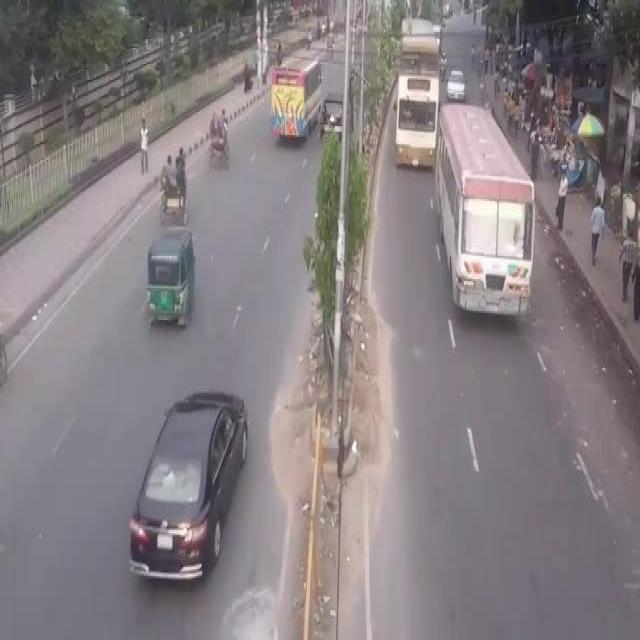13: (156, 145, 190, 232), (207, 106, 230, 172)
15: (318, 87, 342, 144)
17: (144, 224, 196, 331)
5: (126, 388, 250, 586), (445, 67, 467, 104)
Truck: (434, 101, 536, 322), (392, 19, 438, 172), (267, 54, 323, 145)
